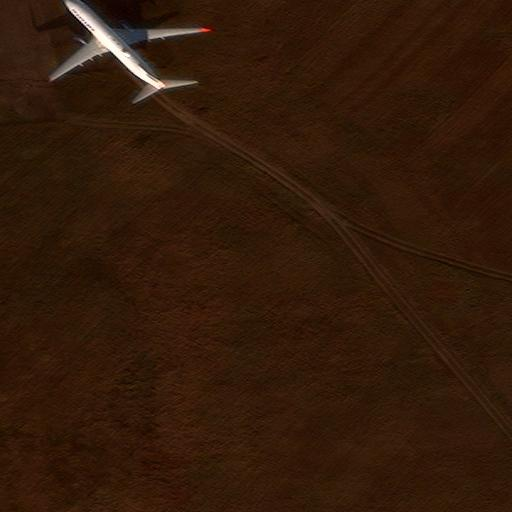Medium Civil Transport: (49, 0, 202, 88)
